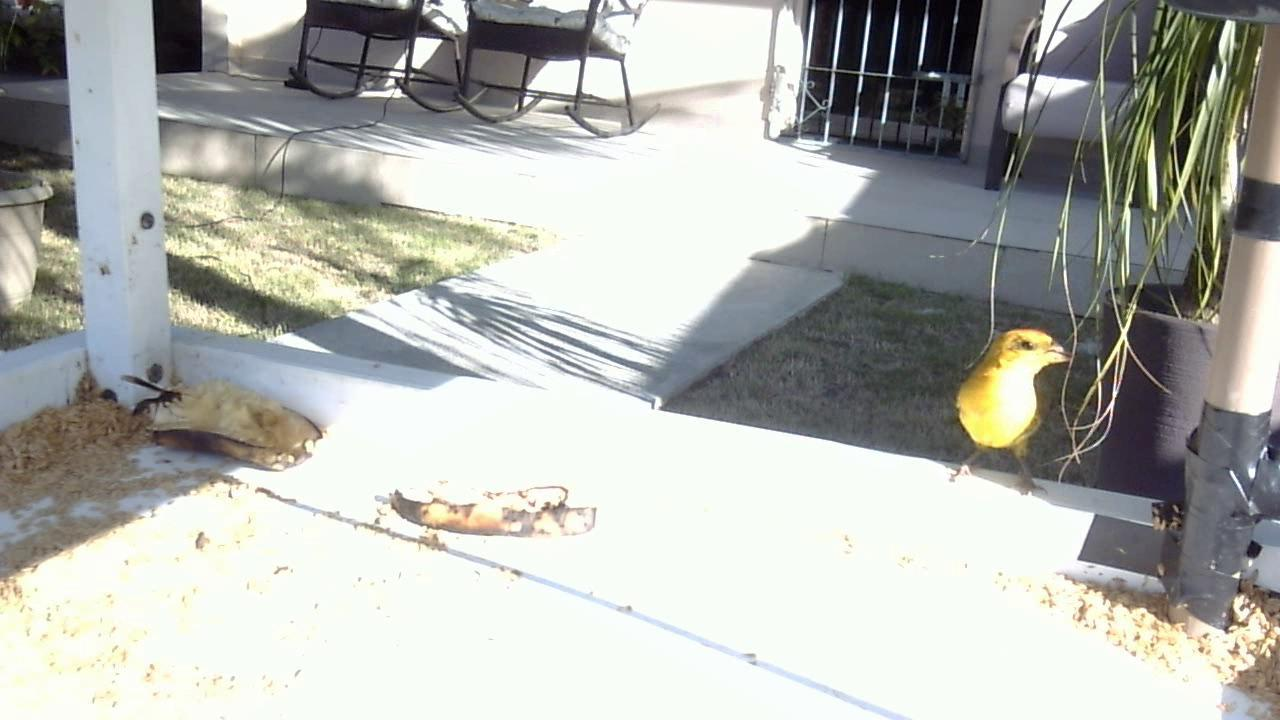canario_do_amazonas: (934, 319, 1078, 504)
